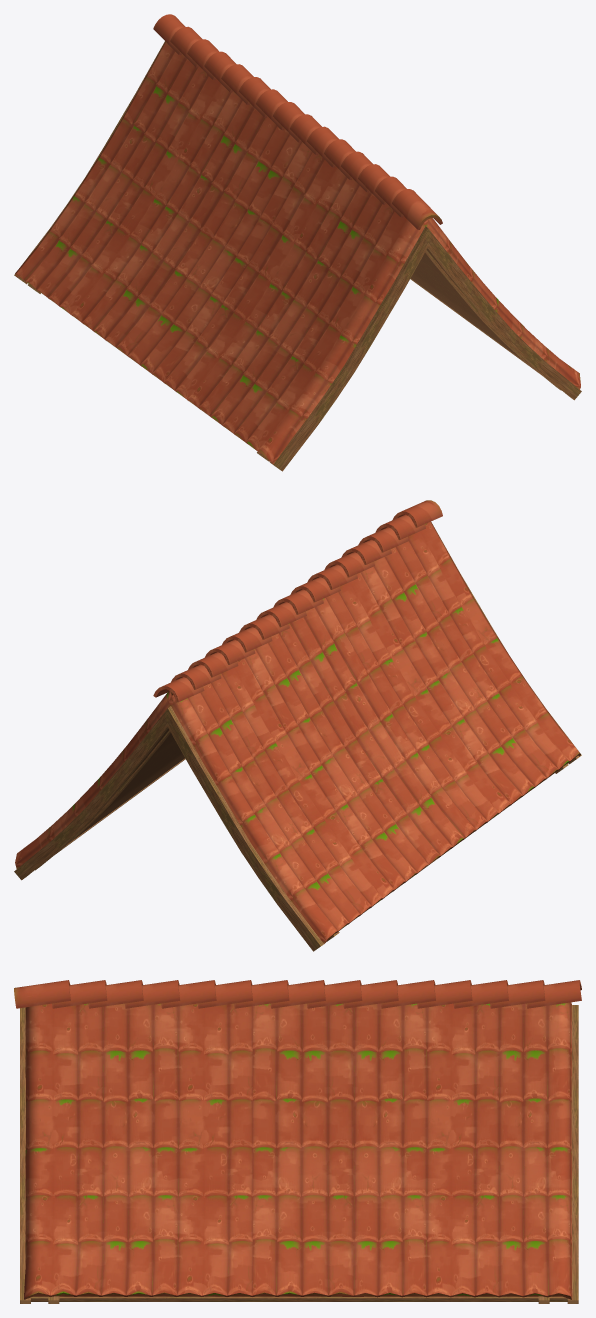
File: Roof_RoundTiles_6x10.gltf
3 views of the same model, one above another, from view 1: azimuth 30°, elevation 25°; view 2: azimuth 150°, elevation 25°; view 3: azimuth 270°, elevation 25° (orthographic). The views are drawn at different scales.
Visible parts, largest first — view 1: Roof_RoundTiles_6x10; view 2: Roof_RoundTiles_6x10; view 3: Roof_RoundTiles_6x10.
Boxes of the visible parts, left/top/right/bottom form: Roof_RoundTiles_6x10: left=14, top=14, right=581, bottom=471; Roof_RoundTiles_6x10: left=14, top=500, right=581, bottom=951; Roof_RoundTiles_6x10: left=14, top=980, right=581, bottom=1303.
Bounding box in the file's own units: 8.25 × 5.67 × 11.85.
Materials: 2 (2 with a texture image).
